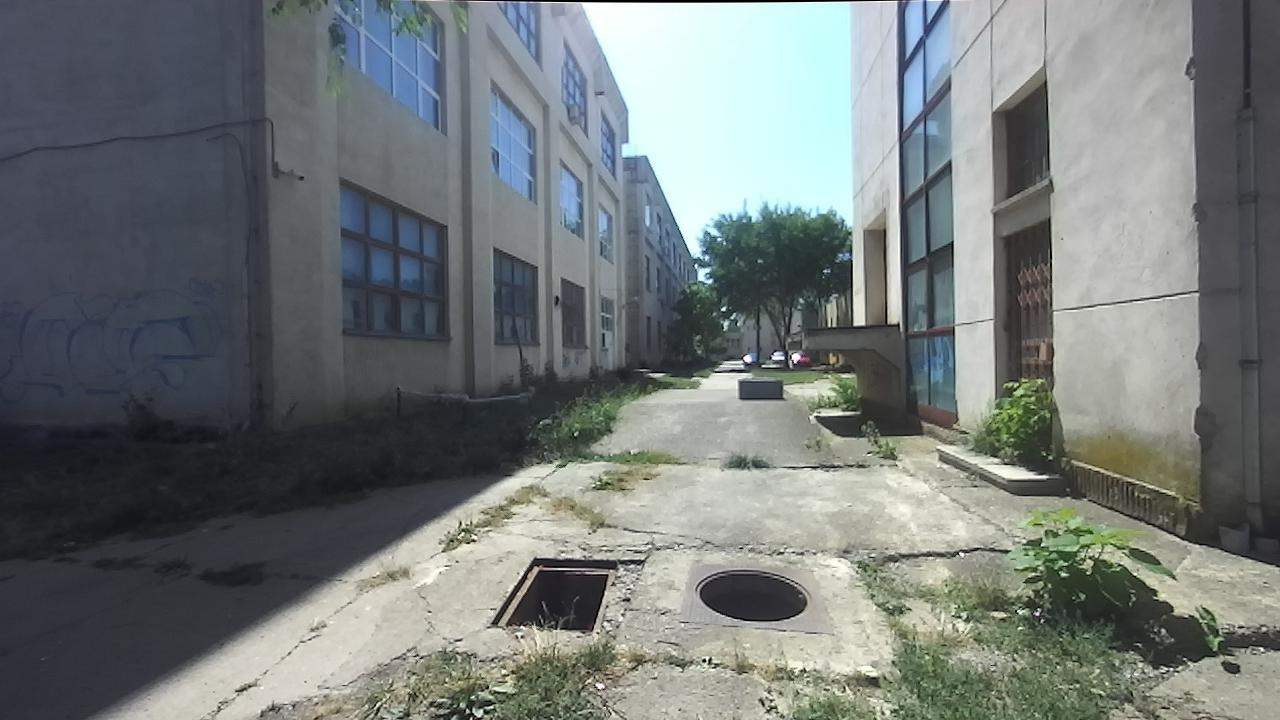drain: (482, 553, 621, 637), (690, 564, 818, 626)
